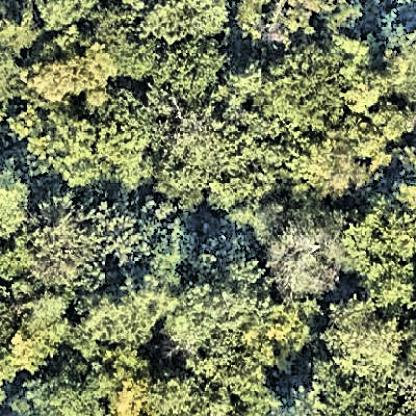tree-top: (167, 277, 322, 384), (28, 85, 161, 193), (160, 111, 286, 206), (251, 189, 350, 302), (345, 183, 416, 306), (15, 35, 123, 114), (14, 196, 106, 288), (262, 45, 361, 129), (1, 291, 83, 377), (324, 301, 416, 375), (105, 200, 199, 272), (82, 274, 168, 348), (293, 126, 380, 192), (292, 362, 398, 416), (154, 36, 233, 103), (96, 5, 160, 85), (230, 1, 329, 52), (31, 354, 110, 416), (138, 1, 235, 41), (142, 375, 229, 416), (1, 165, 37, 240), (367, 95, 416, 142), (32, 1, 97, 33)
